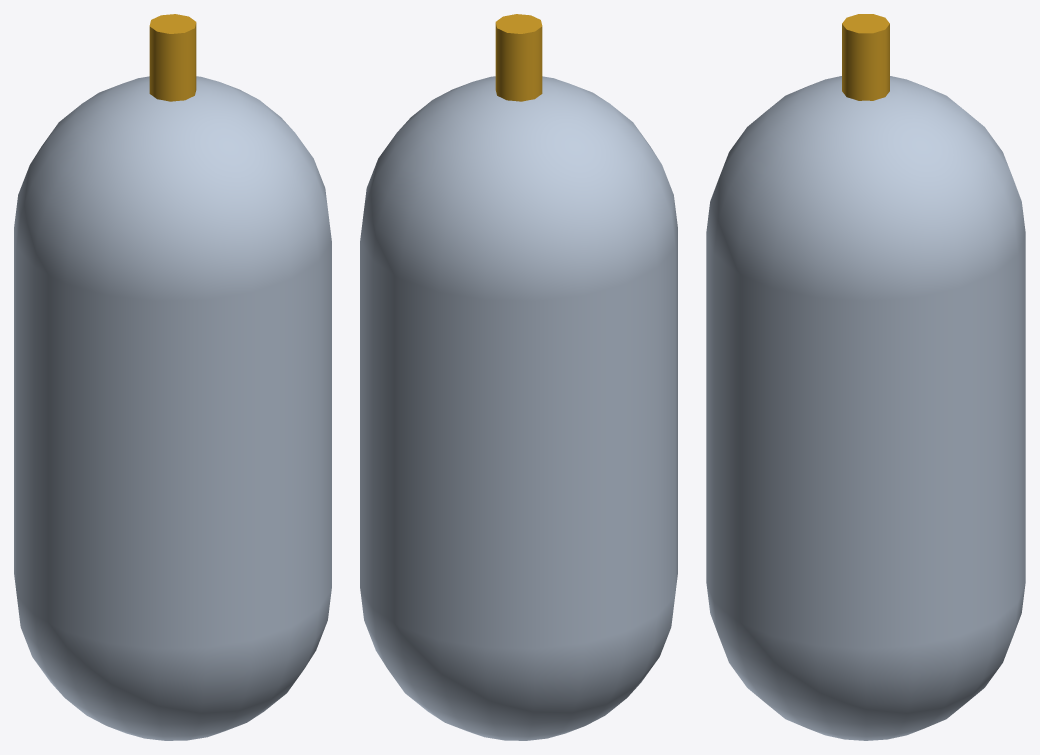
The model's file is thermal-expansion-tank.glb.
The picture shows the model from 3 angles, left to right: view 1: azimuth 30°, elevation 25°; view 2: azimuth 150°, elevation 25°; view 3: azimuth 270°, elevation 25°; orthographic projection.
Parts seen in each view (by area): view 1: plumbing-equipment-expansion-tank; view 2: plumbing-equipment-expansion-tank; view 3: plumbing-equipment-expansion-tank.
Boxes of the visible parts, x1,y1,x2,y2 form: plumbing-equipment-expansion-tank: (14,14,331,740); plumbing-equipment-expansion-tank: (360,14,677,740); plumbing-equipment-expansion-tank: (706,14,1025,740).
Bounding box in the file's own units: 0.2 × 0.485 × 0.2.
